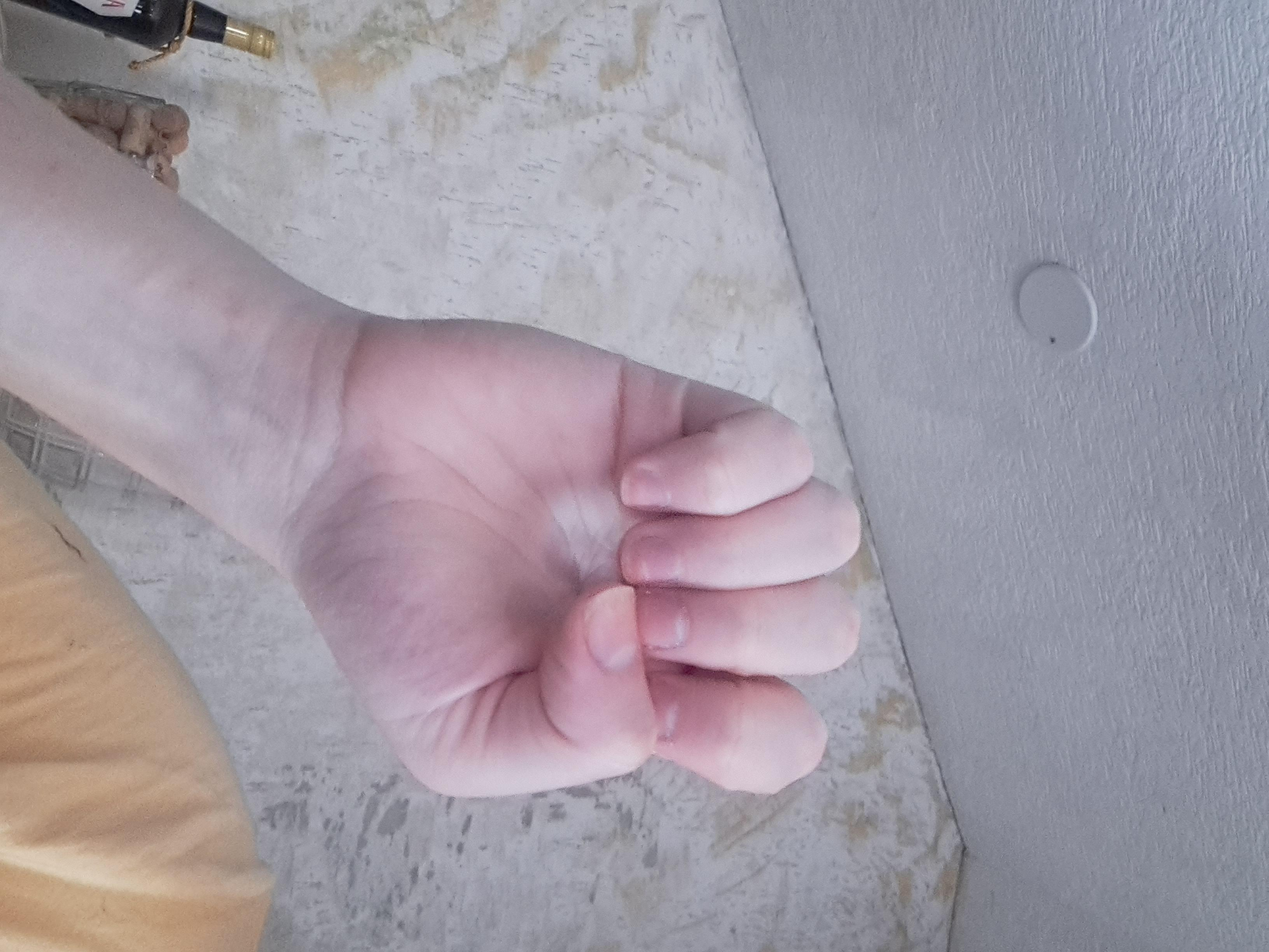E: (410, 303, 1099, 738)
